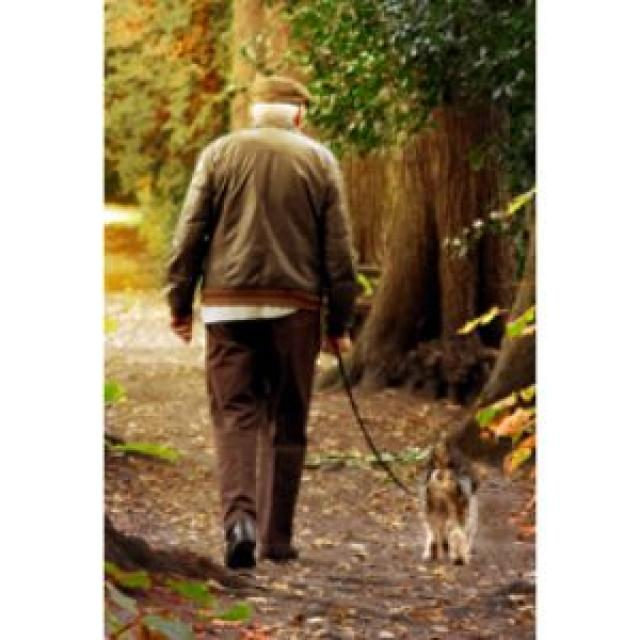nonfall: (187, 66, 365, 580)
